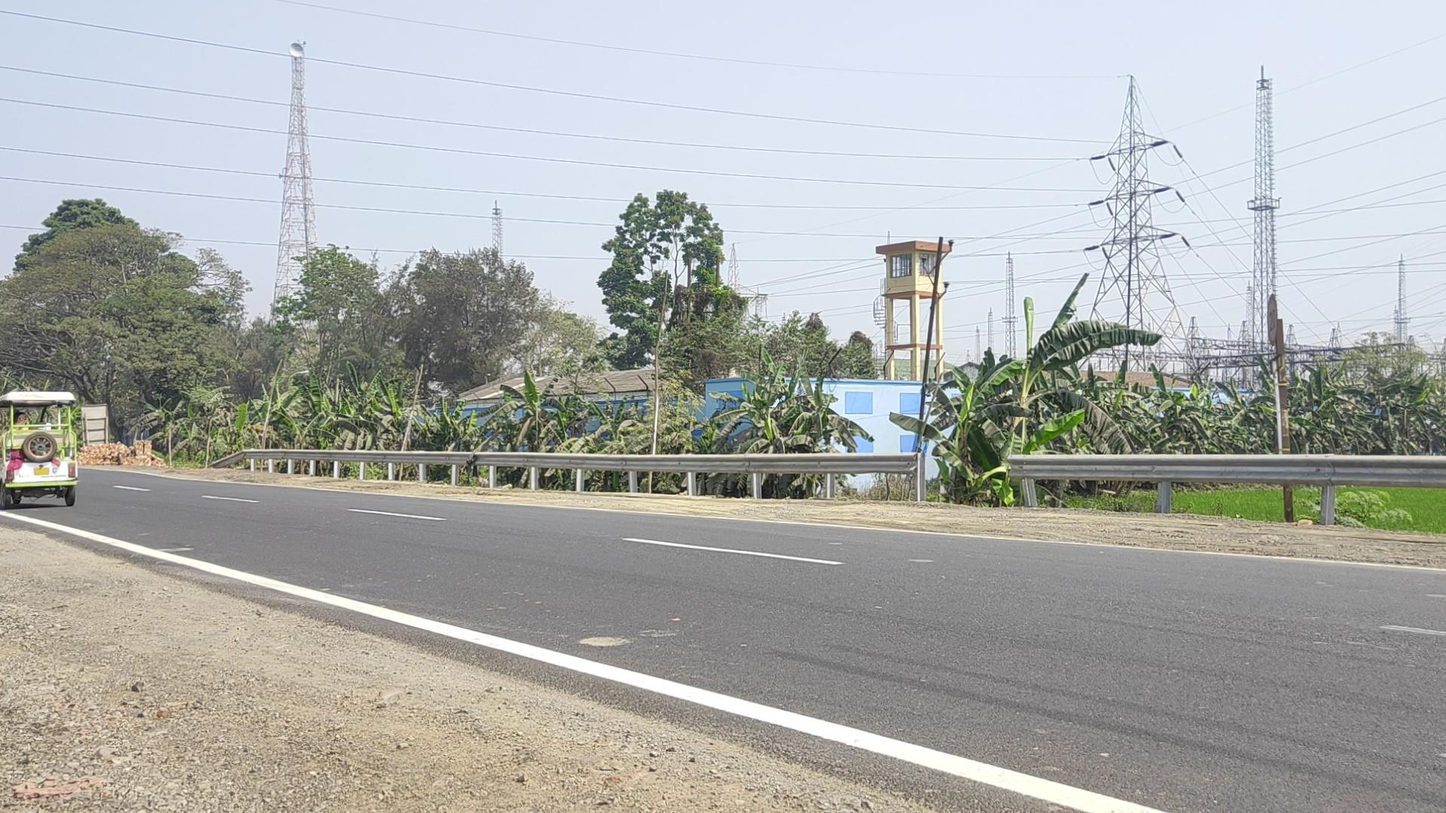Auto: (1, 389, 79, 509)
